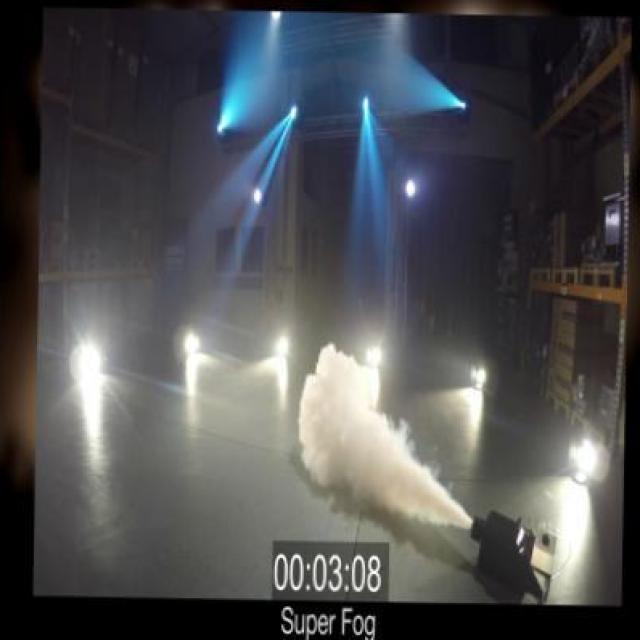fire: (286, 335, 458, 530)
